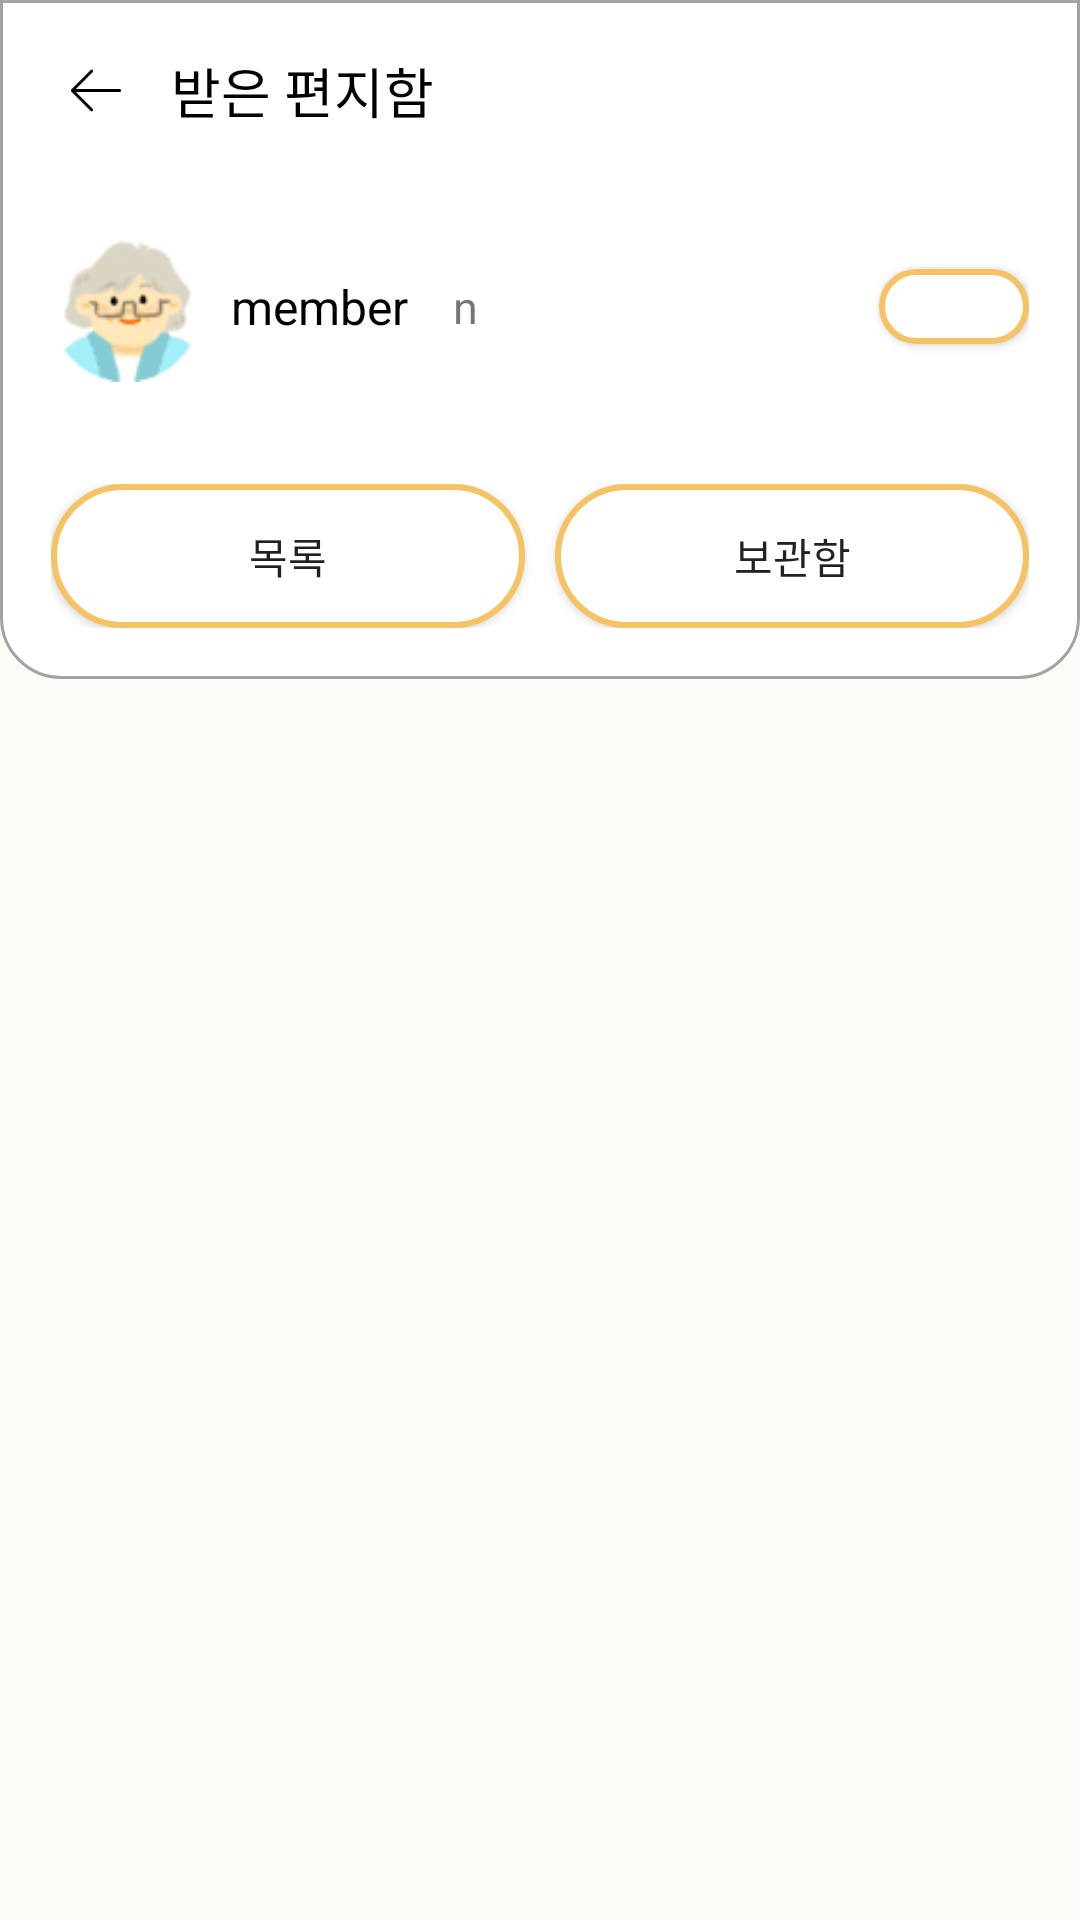

Screen size 1080 x 1920. Icon name, then its center in pixels as (x=x, y=y):
back: (x=96, y=90)
grandmather: (x=127, y=312)
